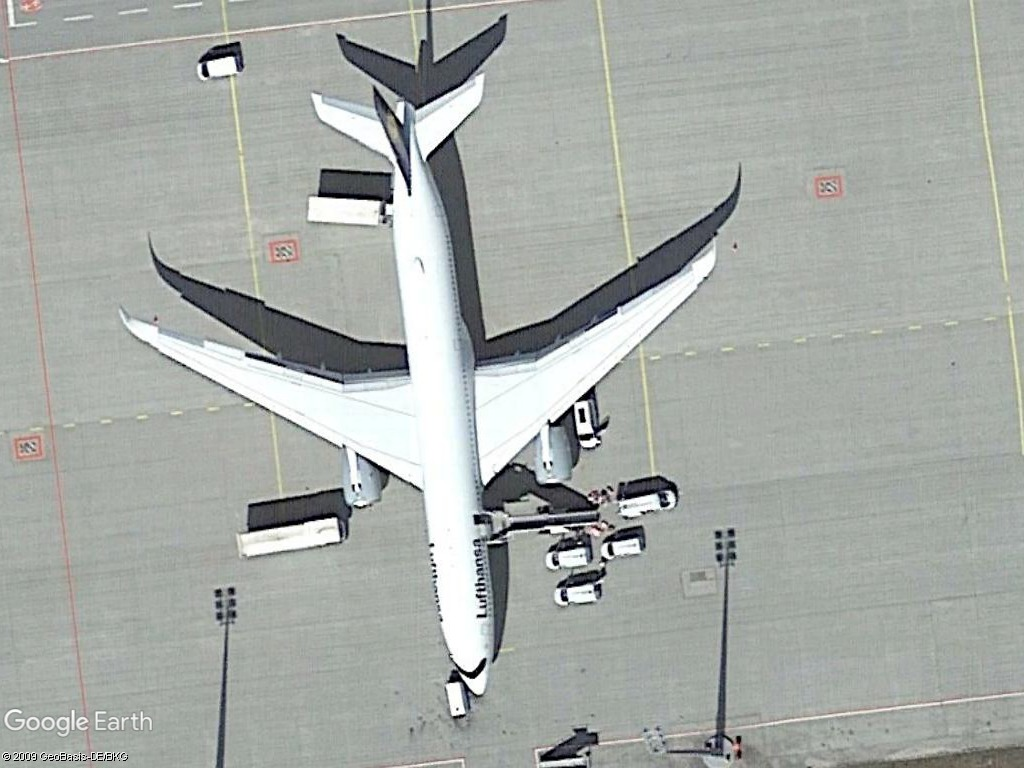airliner: (114, 65, 712, 698)
bus: (227, 512, 346, 564)
van: (193, 51, 243, 85)
